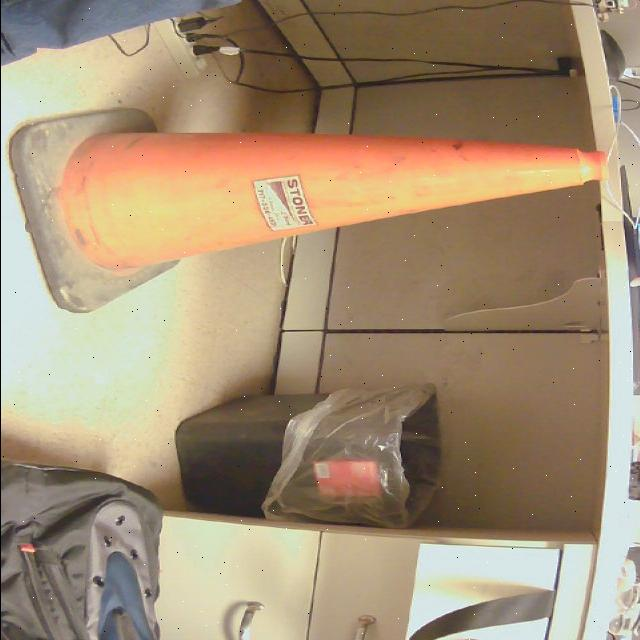traffic cone: (5, 113, 605, 315)
